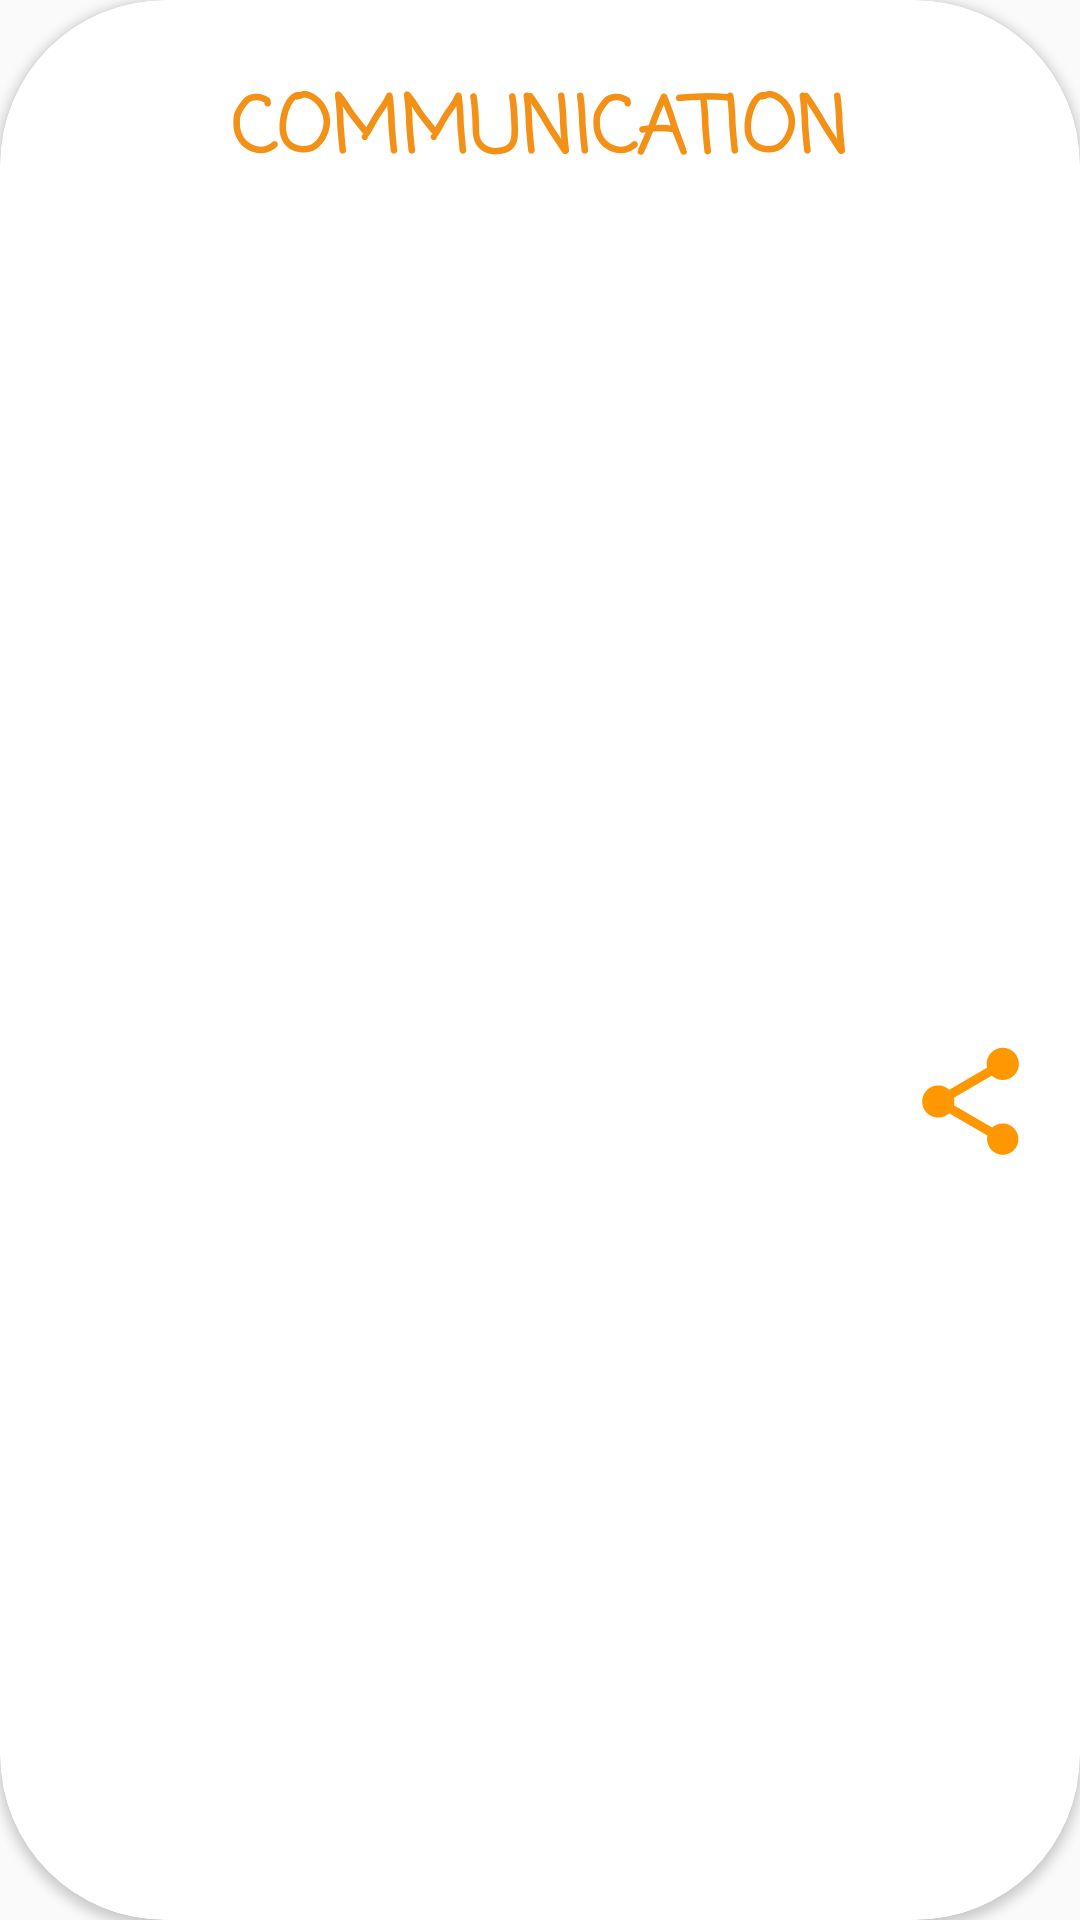

Screen size 1080 × 1920. Icon name, then its box in pixels as bbox=(x1, y1, x2, y2):
share: bbox=(922, 1047, 1019, 1155)
